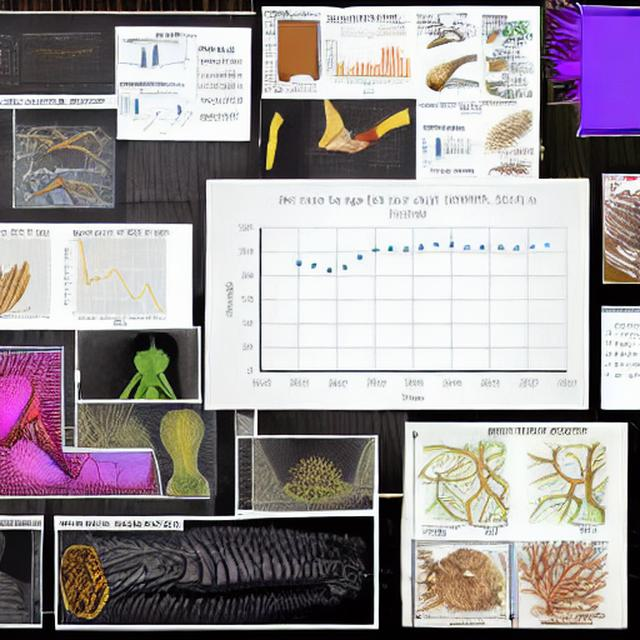Graph: (213, 188, 581, 406), (52, 225, 187, 326), (8, 31, 115, 95), (325, 32, 411, 89), (119, 90, 197, 137)
